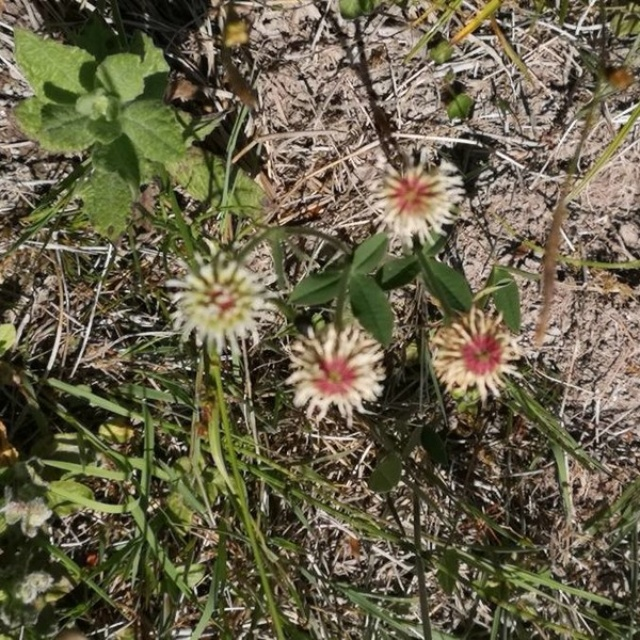obstacle: (147, 51, 505, 468)
